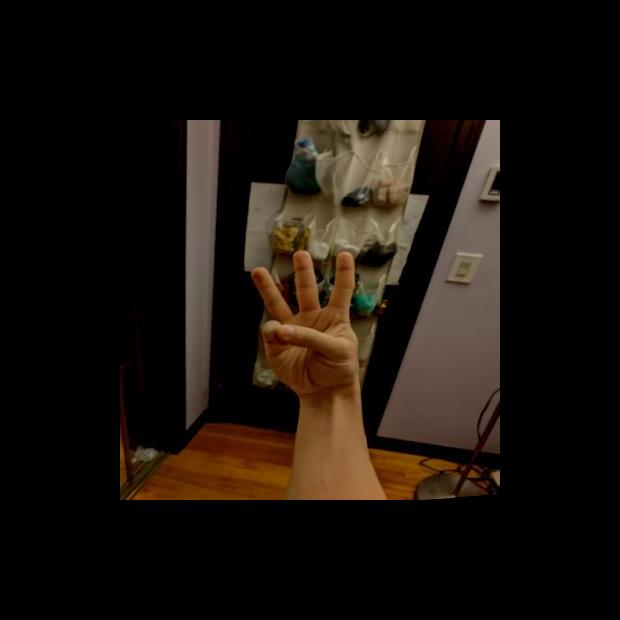V: (244, 243, 373, 402)
